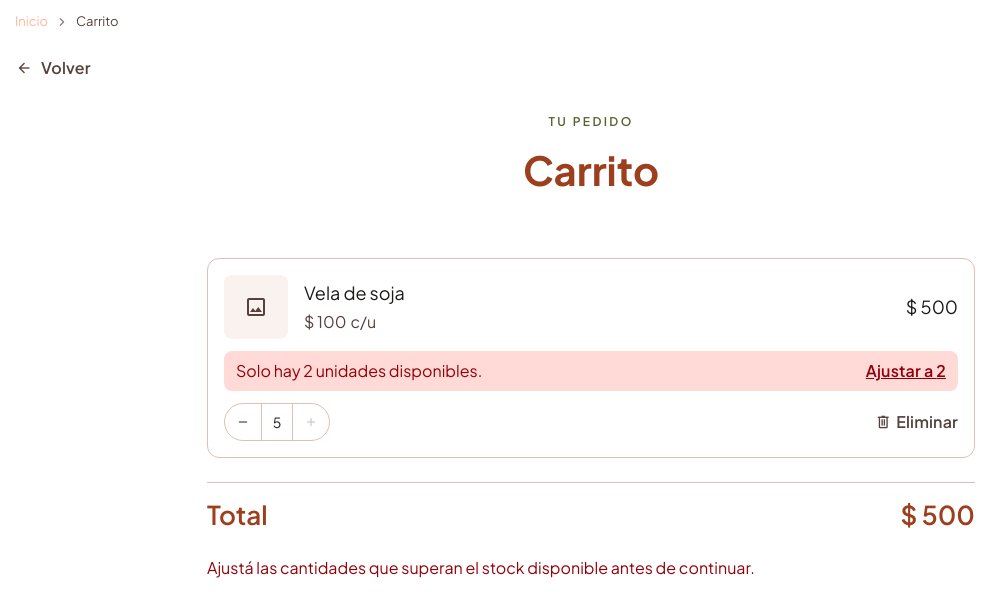
Test: Carrito — tope de cantidad contra el stock disponible › el botón de ajustar deja la línea en el stock disponible
This screenshot has width=992, height=605.
Expected: the text "Solo hay 2 unidades disponibles." is shown, [236, 359, 482, 384]
Click the button "Ajustar a 2" at {"x": 906, "y": 371}, box [866, 363, 946, 379]
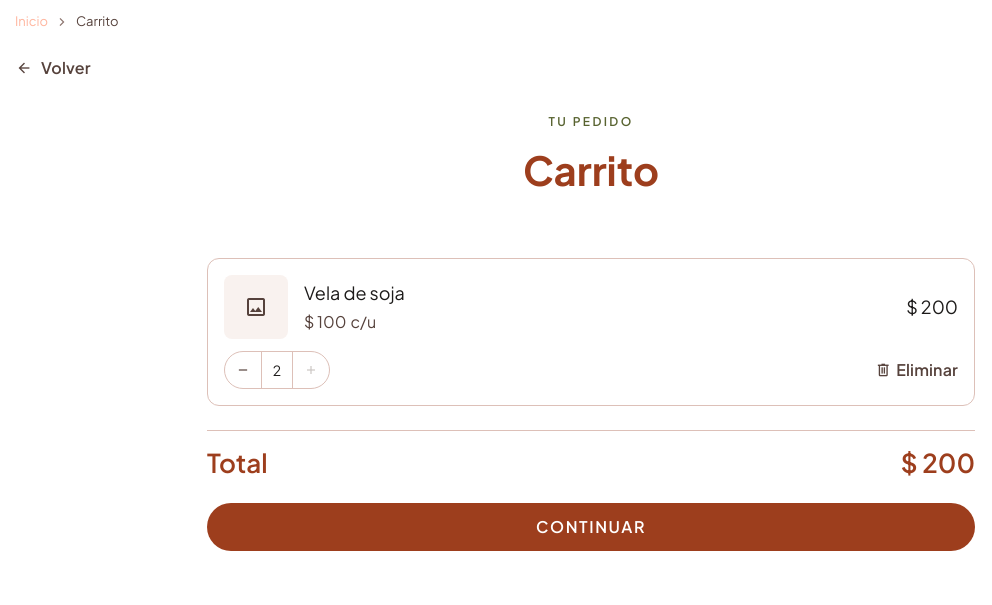
Expected: the text "Solo hay 2 unidades disponibles" is gone
